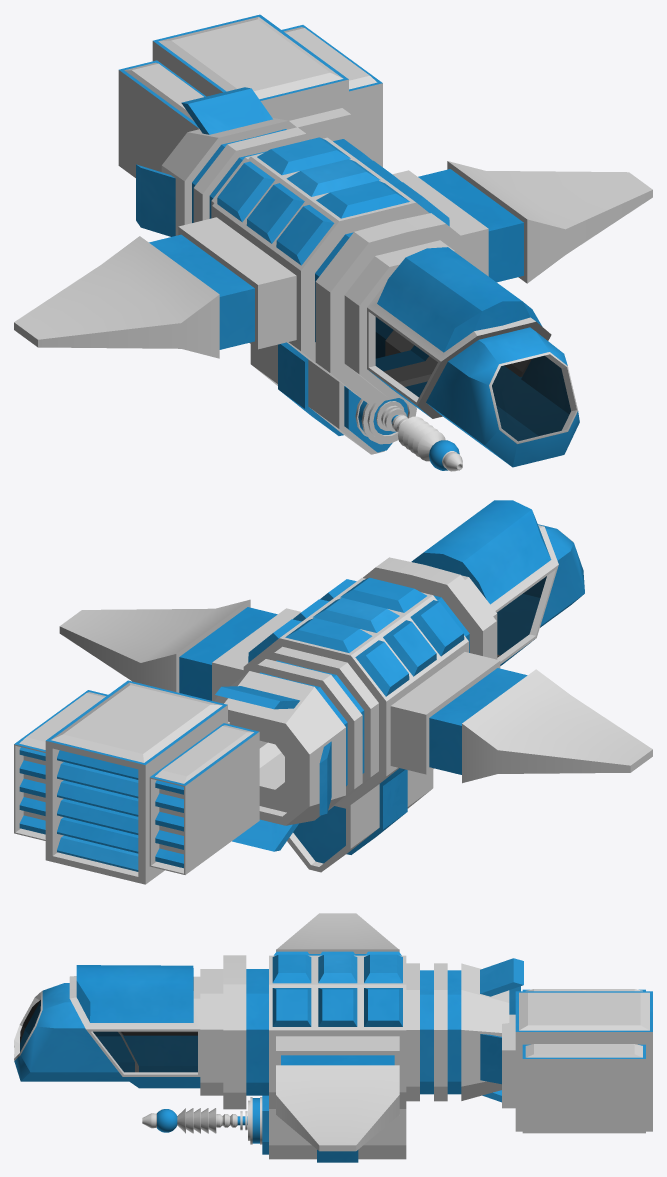
The model's file is BEE.fbx.
3 renders of one model, top to bottom at view 1: azimuth 30°, elevation 25°; view 2: azimuth 150°, elevation 25°; view 3: azimuth 270°, elevation 25°, orthographic. The views are drawn at different scales.
Parts seen in each view (by area): view 1: BEE; view 2: BEE; view 3: BEE.
Boxes of the visible parts, bbox=[...] form: BEE: bbox=[14, 14, 652, 471]; BEE: bbox=[14, 500, 652, 884]; BEE: bbox=[14, 913, 652, 1162].
Bounding box in the file's own units: 8 × 3.15 × 9.31.
